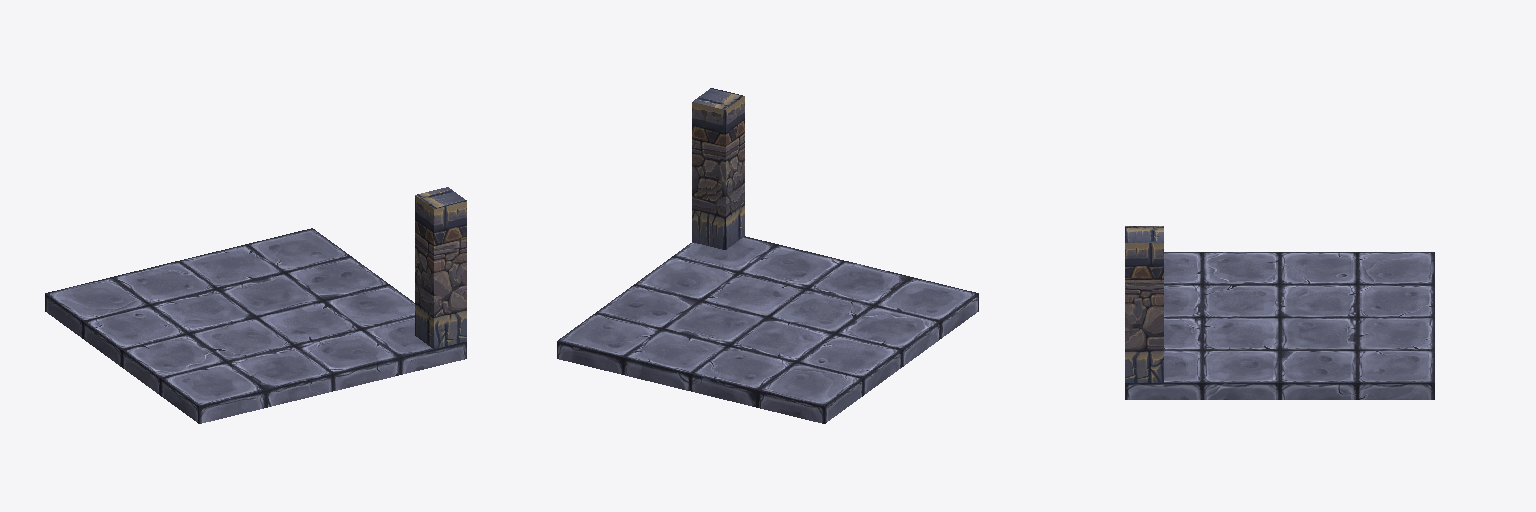
3 views of the same model, side by side, from view 1: azimuth 30°, elevation 25°; view 2: azimuth 150°, elevation 25°; view 3: azimuth 270°, elevation 25° (orthographic).
Visible parts, largest first — view 1: Mesh2 Group2 Model, Mesh1 Group1 Model; view 2: Mesh2 Group2 Model, Mesh1 Group1 Model; view 3: Mesh2 Group2 Model, Mesh1 Group1 Model.
Boxes of the visible parts, <box> form: Mesh2 Group2 Model: <box>45,228,466,423</box>; Mesh1 Group1 Model: <box>415,187,466,348</box>; Mesh2 Group2 Model: <box>557,236,978,423</box>; Mesh1 Group1 Model: <box>692,88,744,249</box>; Mesh2 Group2 Model: <box>1125,252,1434,399</box>; Mesh1 Group1 Model: <box>1125,226,1163,382</box>.
Size of the model in its own units: 157 by 88.58 by 157.
3 materials, 2 textured.